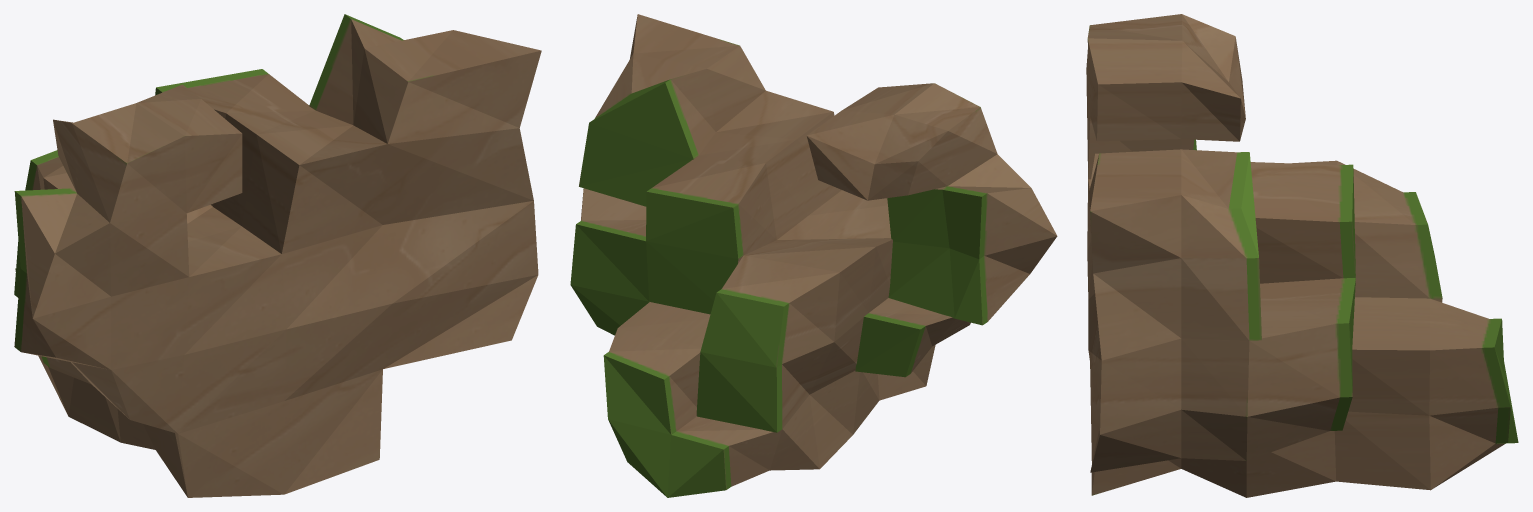
File: mountain-02.obj
3 views of the same model, side by side, from view 1: azimuth 30°, elevation 25°; view 2: azimuth 150°, elevation 25°; view 3: azimuth 270°, elevation 25° (orthographic). The views are drawn at different scales.
Parts seen in each view (by area): view 1: mountain-02_Plane.188; view 2: mountain-02_Plane.188; view 3: mountain-02_Plane.188.
Part boxes in pixels (x1=…): mountain-02_Plane.188: x1=14, y1=14, x2=541, y2=497; mountain-02_Plane.188: x1=570, y1=14, x2=1057, y2=497; mountain-02_Plane.188: x1=1086, y1=14, x2=1518, y2=497.
Bounding box in the file's own units: 32.69 × 23.69 × 24.59.
